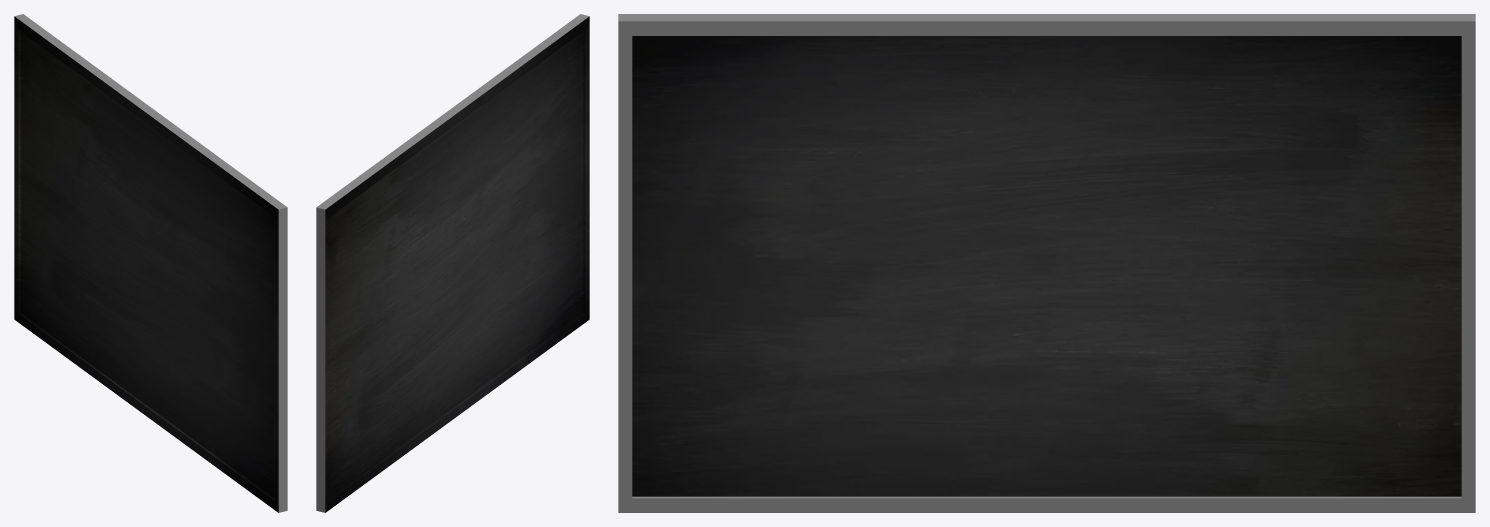
Rendered from tableau.glb.
3 renders of one model, left to right at view 1: azimuth 30°, elevation 25°; view 2: azimuth 150°, elevation 25°; view 3: azimuth 270°, elevation 25°, orthographic. The views are drawn at different scales.
Parts seen in each view (by area): view 1: Cube.001; view 2: Cube.001; view 3: Cube.001.
Part boxes in pixels (x1,y1,x2,y2): Cube.001: (14,14,287,512); Cube.001: (316,14,589,512); Cube.001: (618,14,1475,512).
Bounding box in the file's own units: 0.0509 × 1.61 × 2.55.
Materials: 2 (1 with a texture image).
